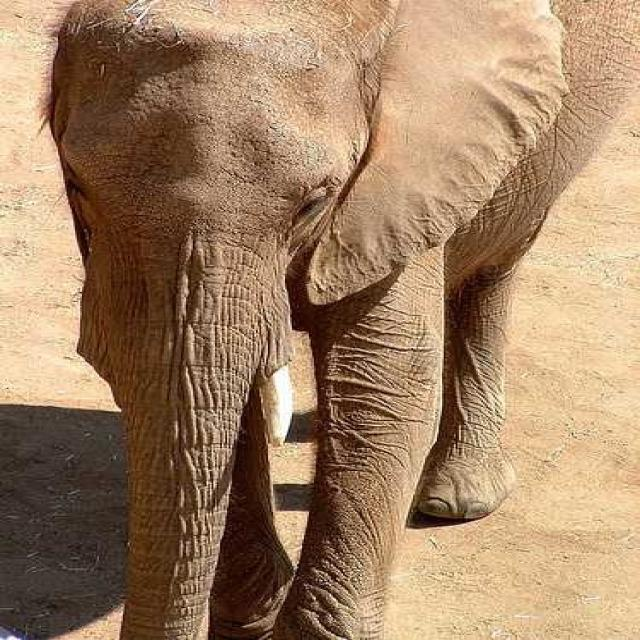Elephant: (38, 0, 638, 639)
